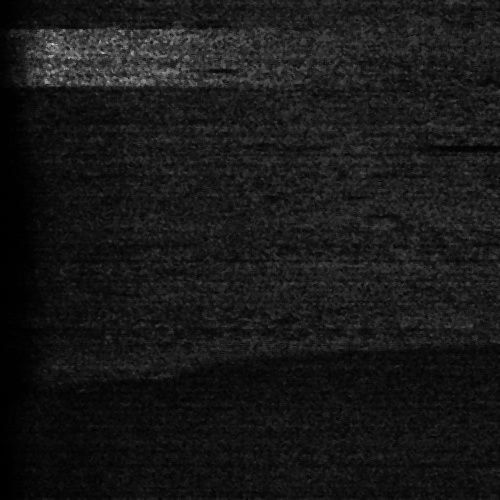object: (320, 140, 413, 147), (155, 65, 208, 70)
shadow: (367, 140, 487, 147), (182, 65, 237, 70)
